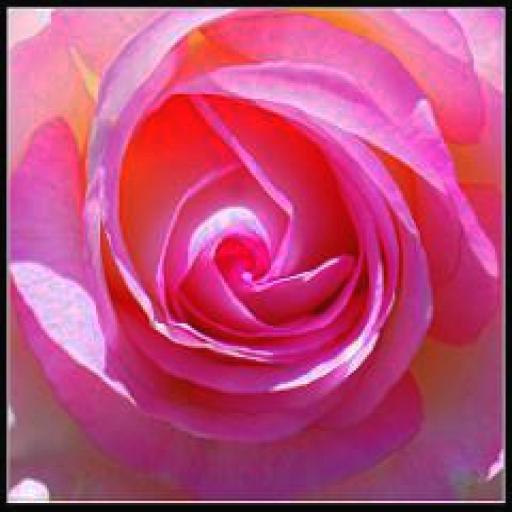rose: (8, 9, 502, 496)
